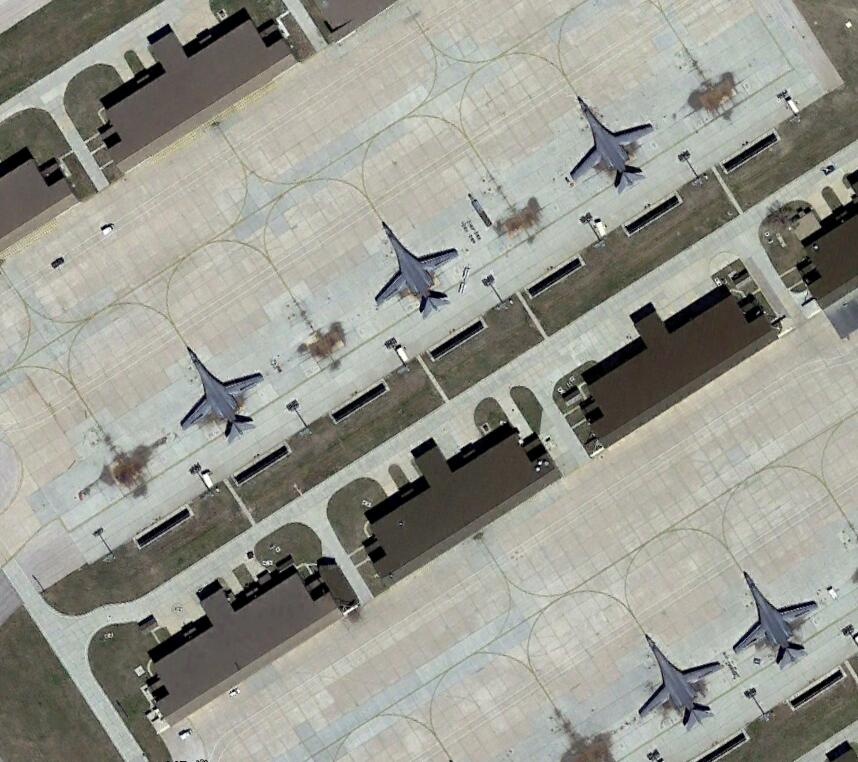A10: (563, 93, 658, 200), (632, 629, 726, 729), (172, 344, 265, 444), (365, 220, 460, 317), (730, 566, 818, 668)
